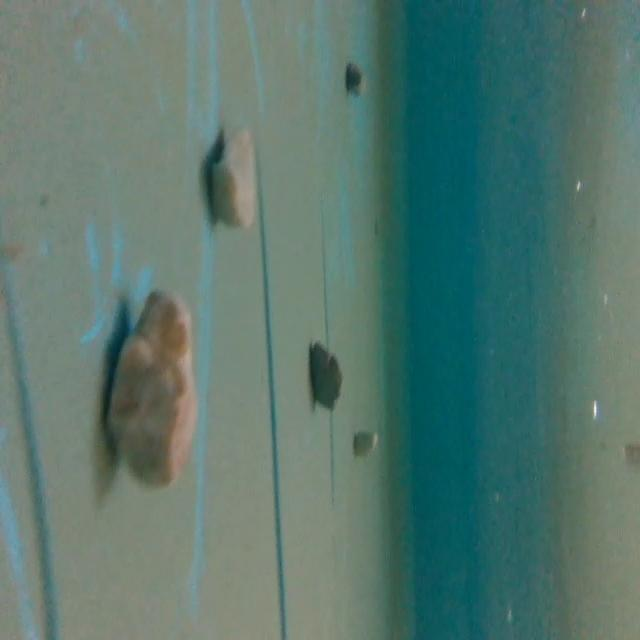rock: (99, 289, 207, 491), (204, 123, 260, 234), (304, 334, 344, 409), (344, 60, 365, 100)
